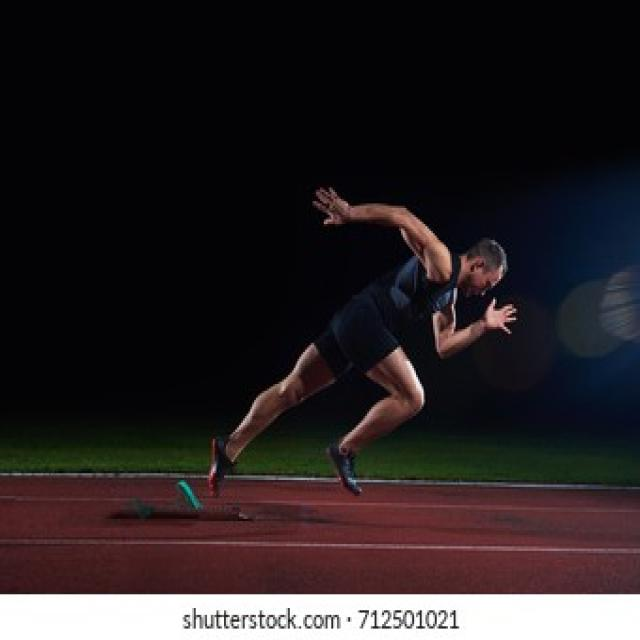running: (202, 182, 524, 504)
